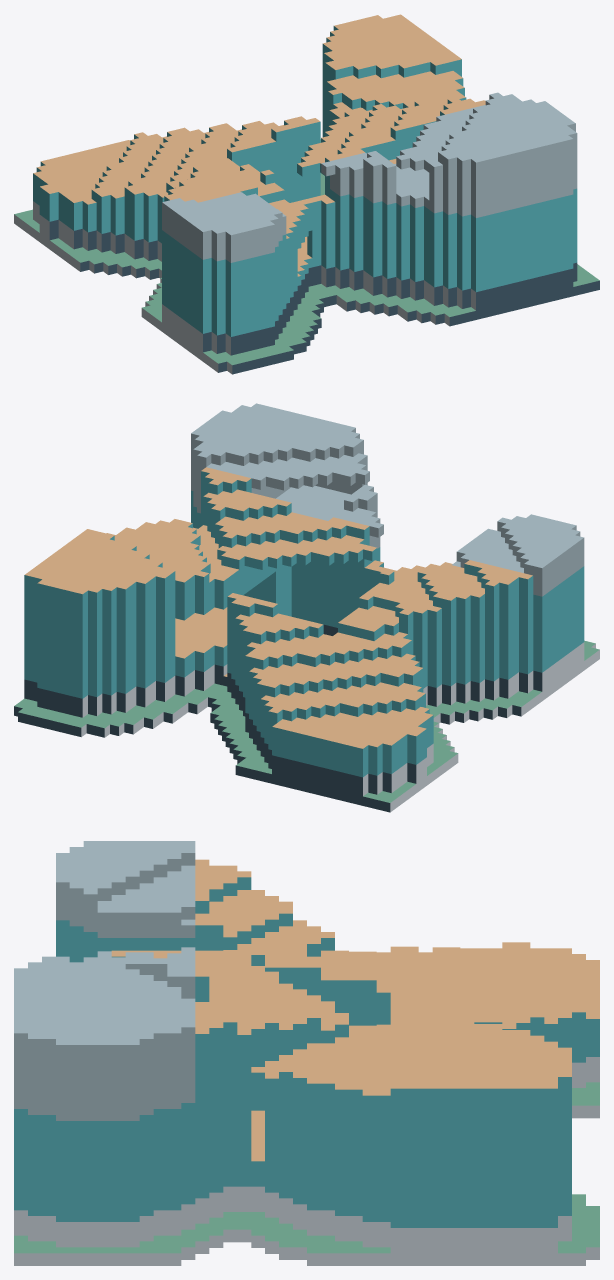
File: a36_delta.obj
The picture shows the model from 3 angles, top to bottom: view 1: azimuth 30°, elevation 25°; view 2: azimuth 150°, elevation 25°; view 3: azimuth 270°, elevation 25°; orthographic projection. The views are drawn at different scales.
Bounding box in the file's own units: 420 × 170 × 420.
